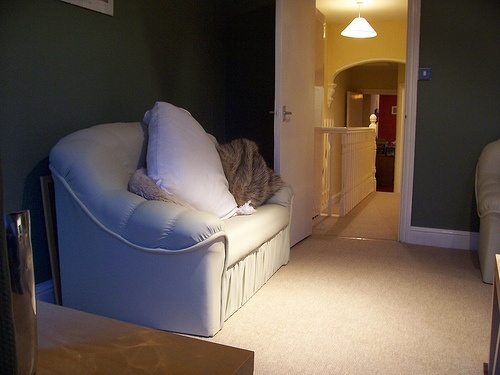chair: (474, 140, 500, 284)
sofa: (50, 121, 295, 338)
